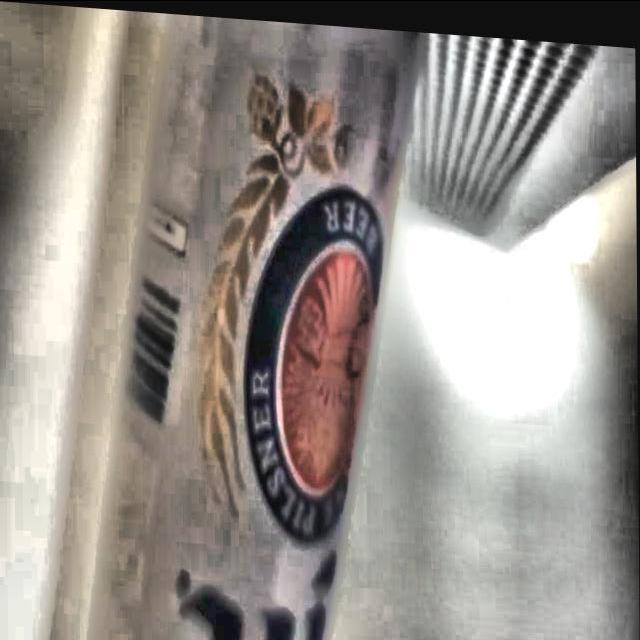Aluminum Can: (43, 3, 441, 640)
